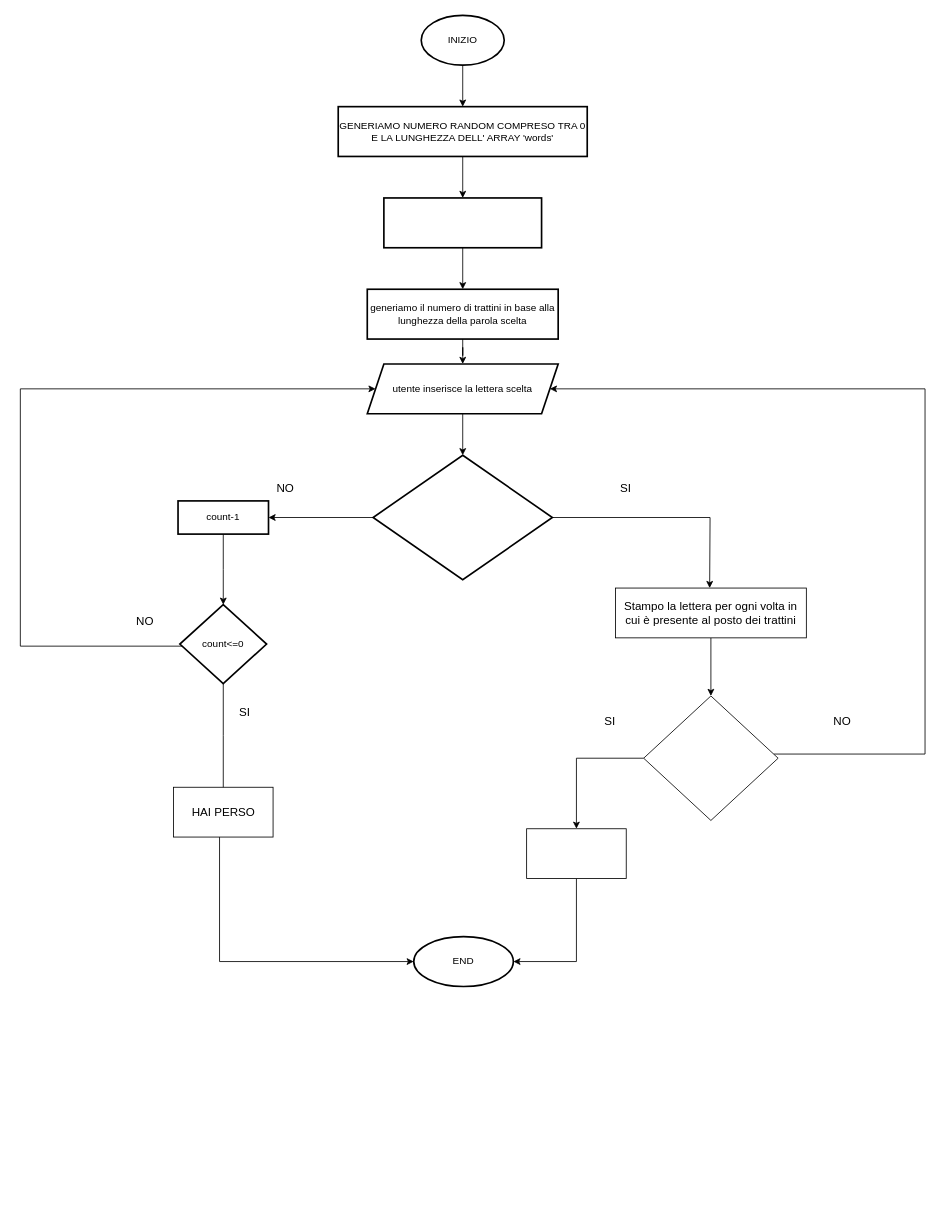
The diagram is 946 pixels wide and 1217 high, and some of its shapes have lost their labels. The shapes that lost their labels are listed below. From the top down, each one's centre as x and y in pixels, then its label:
point (462, 222): impostiamo la parola scelta in base alla posizione generata
point (462, 517): se lettera è presente nella parola
point (710, 757): La parola è completa?
point (576, 853): HAI VINTO
